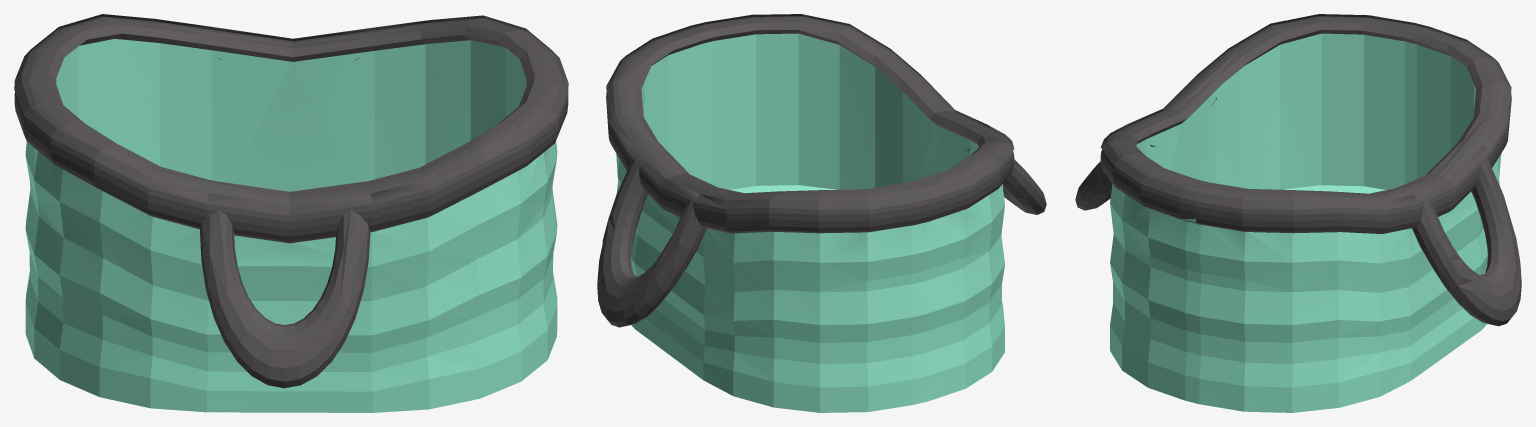
File: Toy145.fbx
The picture shows the model from 3 angles, left to right: view 1: azimuth 30°, elevation 25°; view 2: azimuth 150°, elevation 25°; view 3: azimuth 270°, elevation 25°; orthographic projection. The views are drawn at different scales.
Visible parts, largest first — view 1: Toy145; view 2: Toy145; view 3: Toy145.
Part boxes in pixels (x1,y1,x2,y2): Toy145: (14, 14, 568, 412); Toy145: (597, 14, 1046, 412); Toy145: (1075, 14, 1521, 412).
Size of the model in its own units: 0.1753 by 0.0919 by 0.1722.
